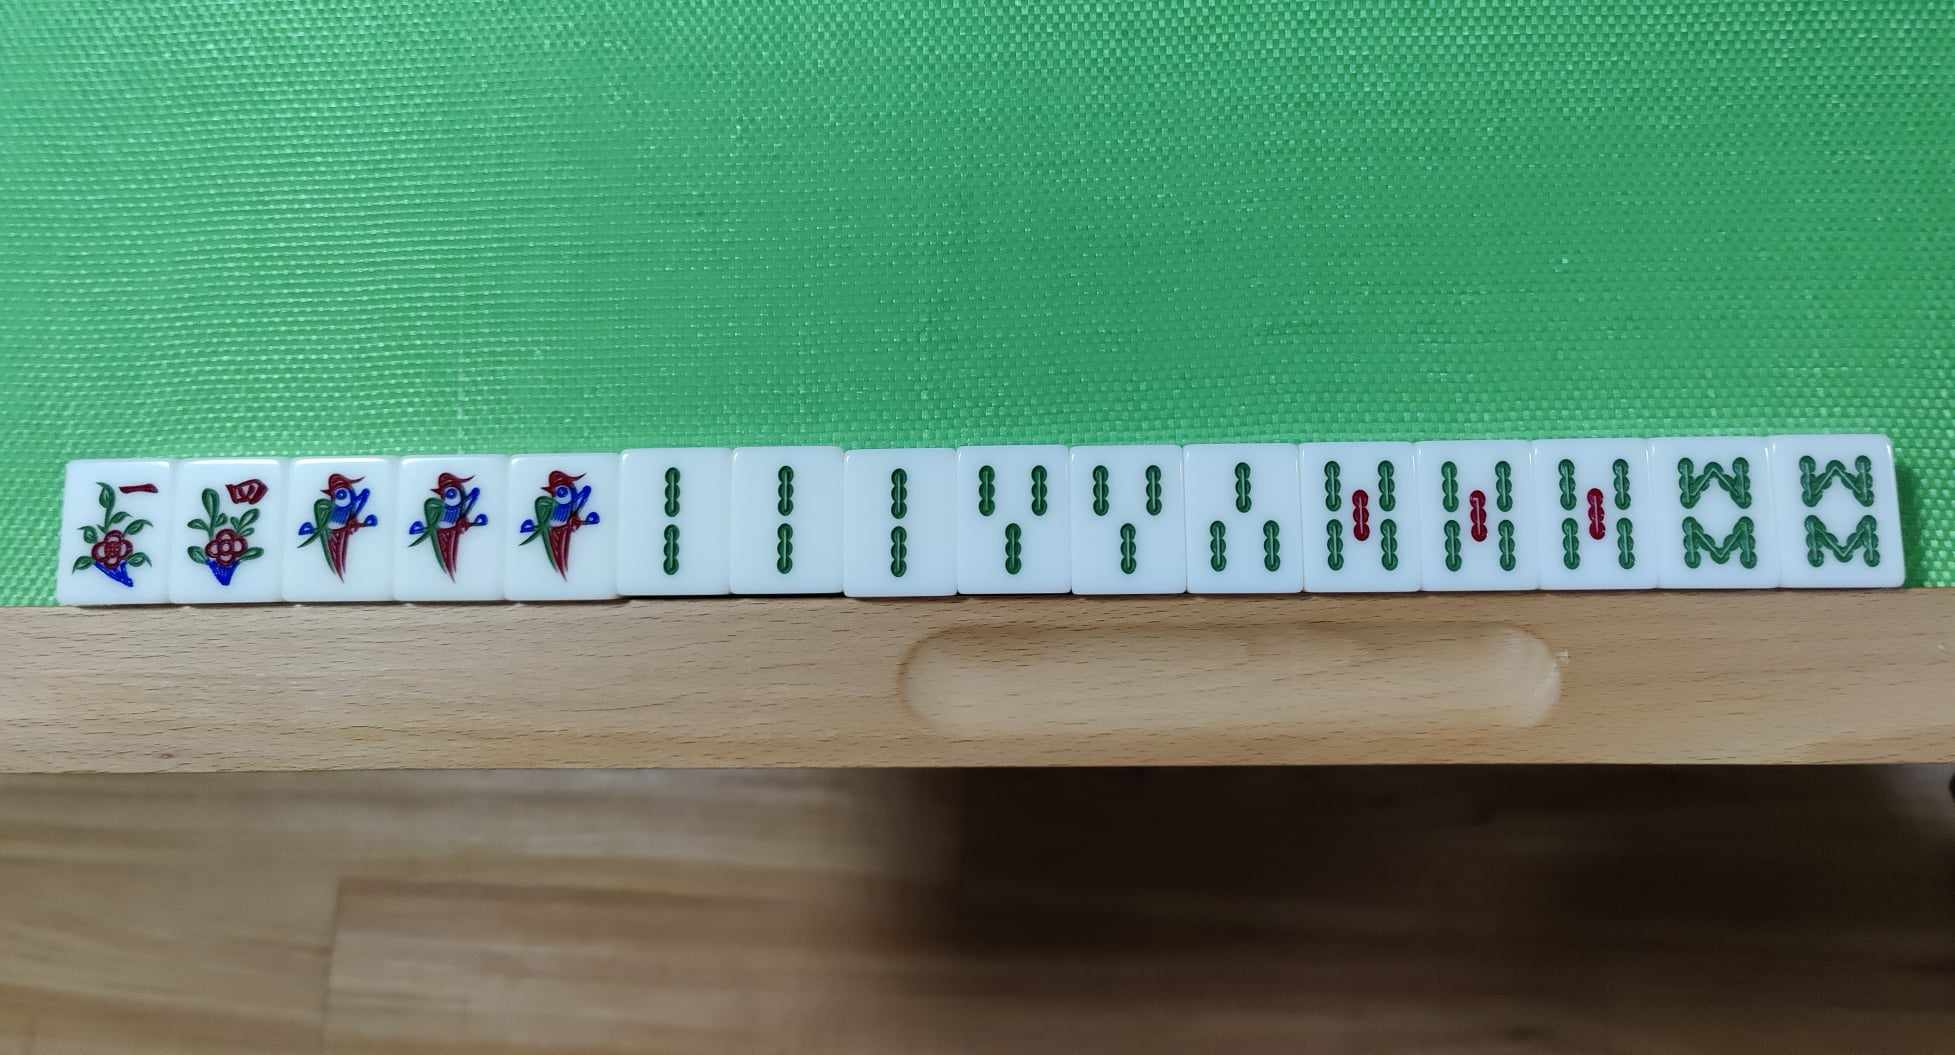bamboo-eight: (1778, 442, 1894, 579), (1664, 450, 1764, 579)
bamboo-five: (1304, 451, 1415, 587), (1425, 451, 1530, 587), (1543, 453, 1652, 582)
bamboo-one: (511, 463, 608, 594), (294, 465, 385, 600), (400, 465, 494, 596)
bamboo-three: (1192, 455, 1291, 586), (1076, 457, 1178, 583), (964, 455, 1063, 585)
bamboo-two: (626, 455, 720, 591), (853, 457, 944, 589), (740, 456, 822, 583)
flower-red_four: (177, 470, 271, 602)
flower-red_one: (70, 472, 162, 603)
